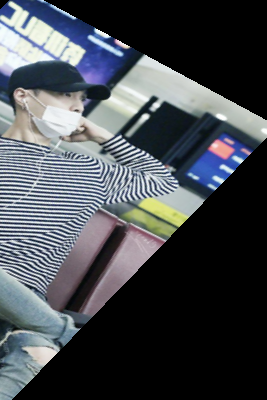mask_weared_incorrect: (5, 53, 118, 154)
